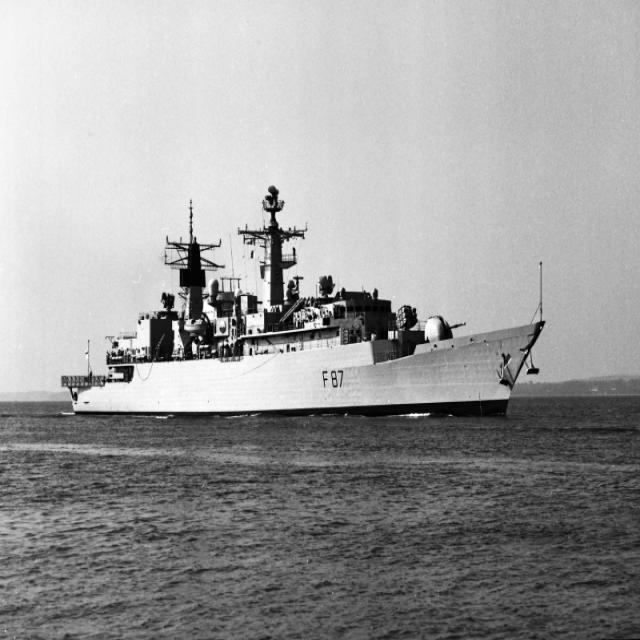Fragata: (60, 178, 551, 427)
